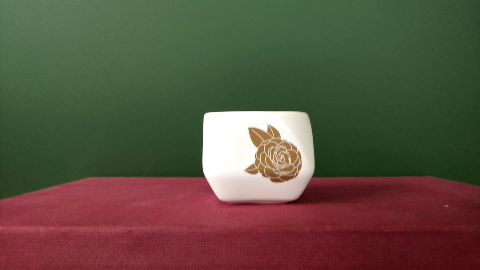flower: (234, 119, 303, 187)
